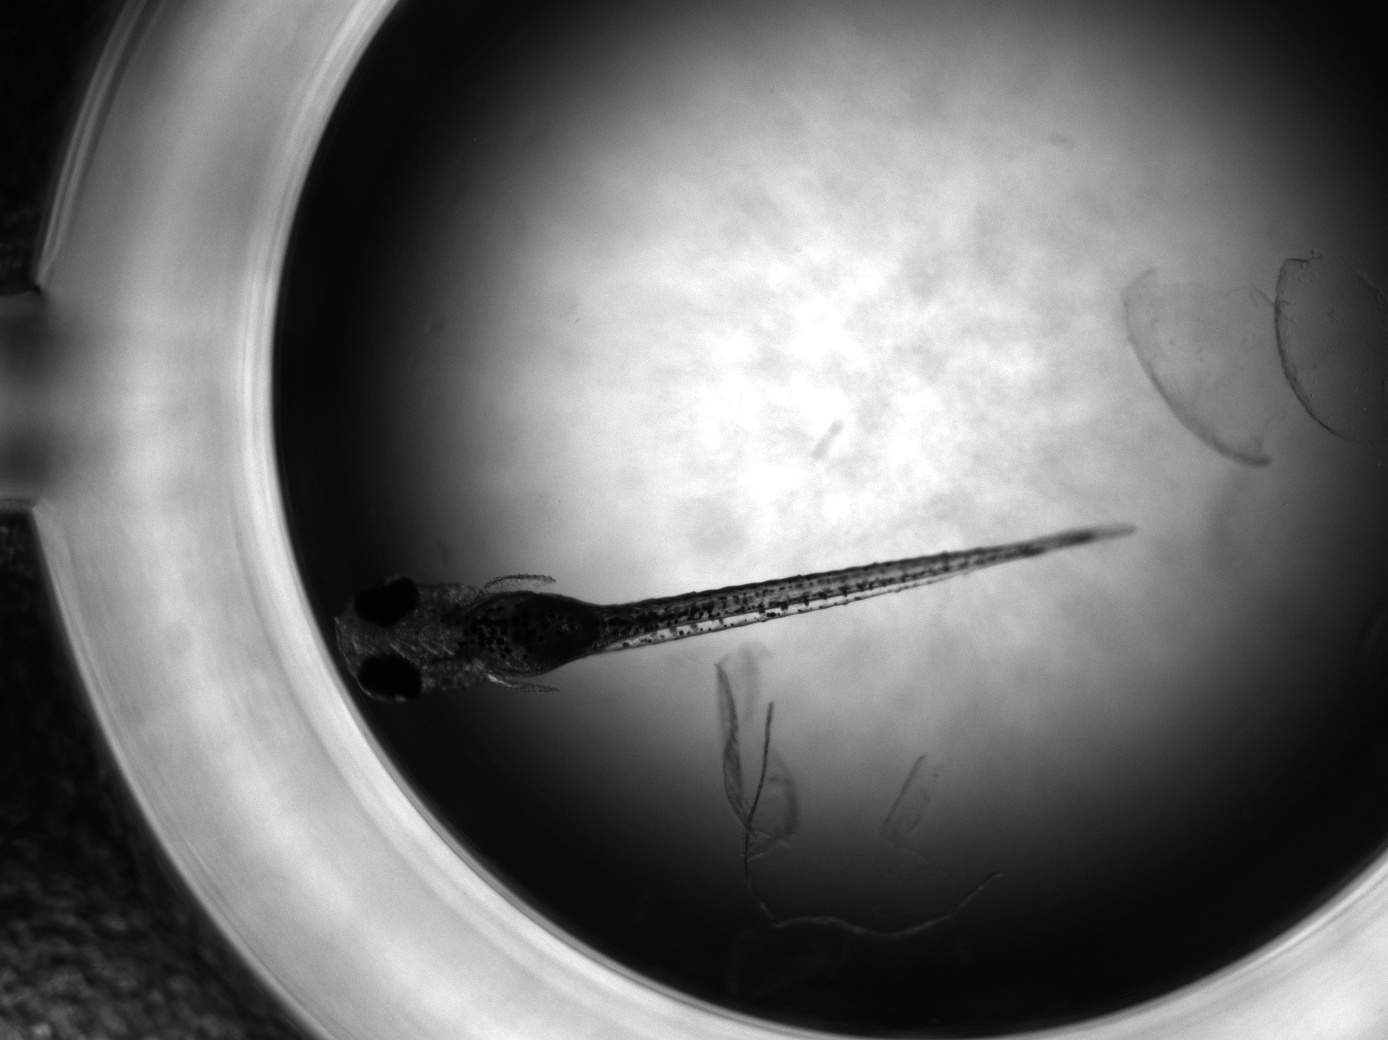debris: (742, 704, 1009, 943), (1124, 265, 1298, 472), (1273, 249, 1388, 442), (715, 641, 802, 863)
embryo: (334, 522, 1140, 704)
eye: (352, 574, 422, 628), (355, 652, 424, 705)
yolksac: (461, 592, 605, 677)
